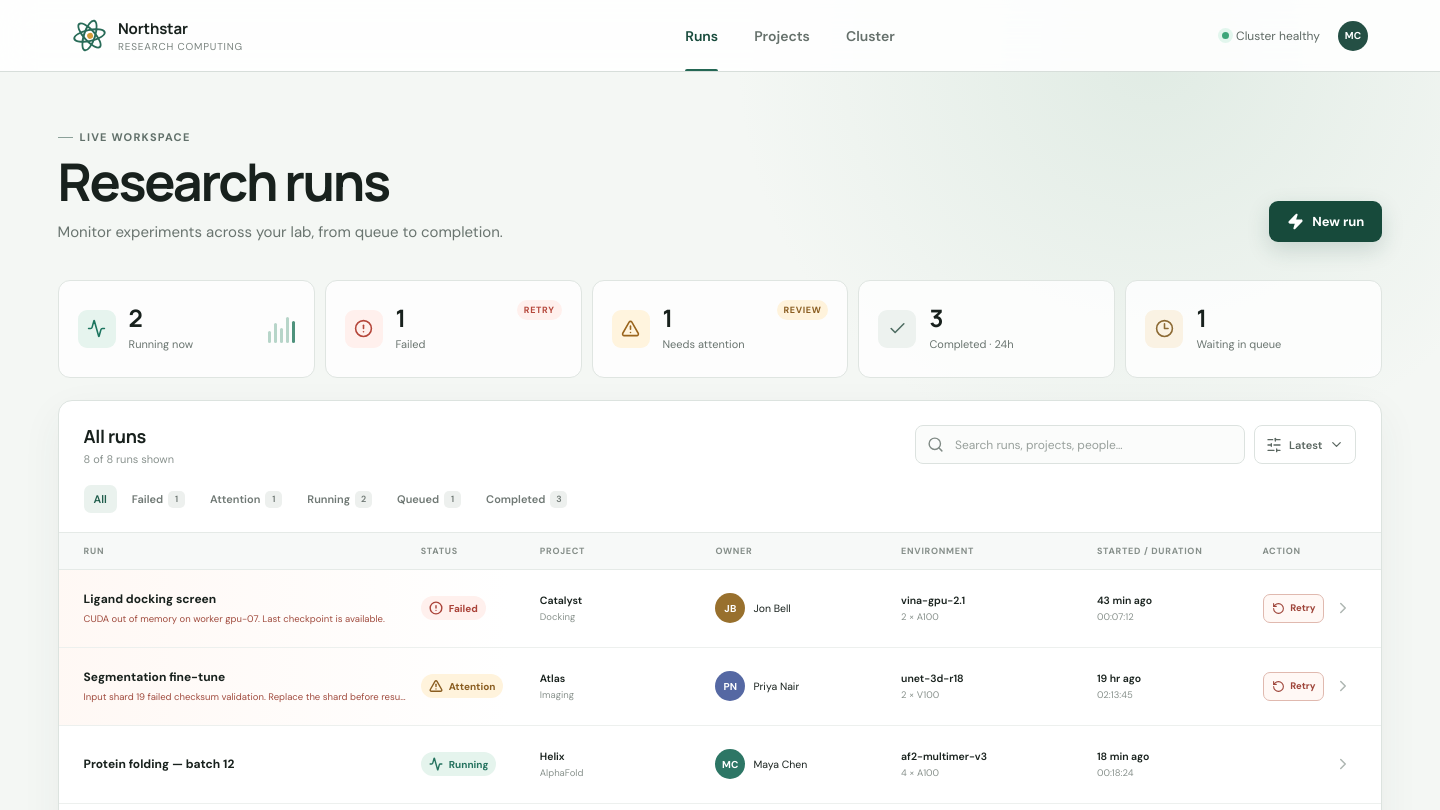
Test case: Research runboard › queues a failed run for retry and updates its local state
Click the button with aria-label "Retry Ligand docking screen": x=1294, y=608 [1263,594,1324,623]
(page scrolled)
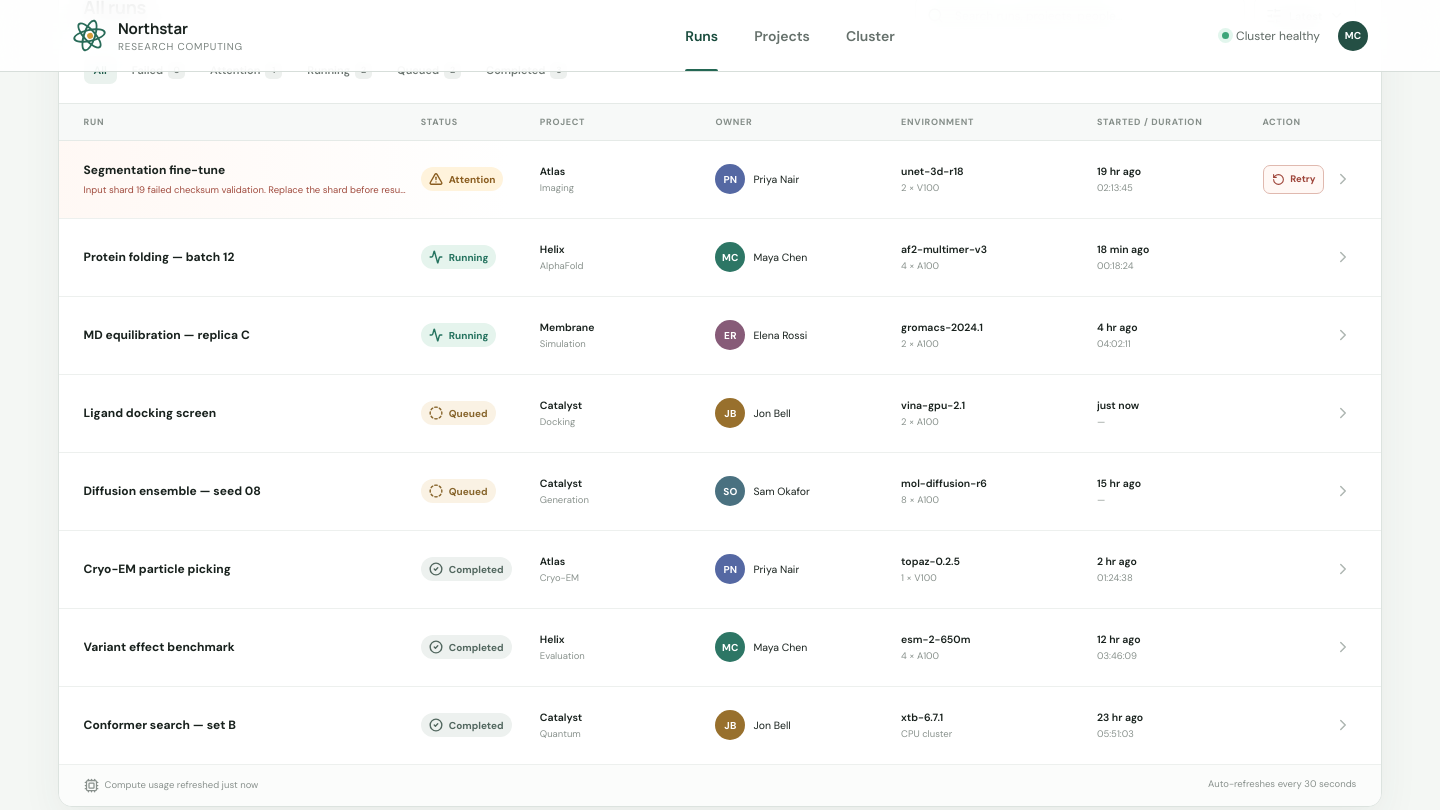
Expected: the element named "View Ligand docking screen" is shown, [59,375,1381,453]
Expected: the text "Queued" in the row of "vina-gpu-2.1" is shown, [449,407,488,420]
Expected: the text "just now" is shown, [1097,399,1139,412]
